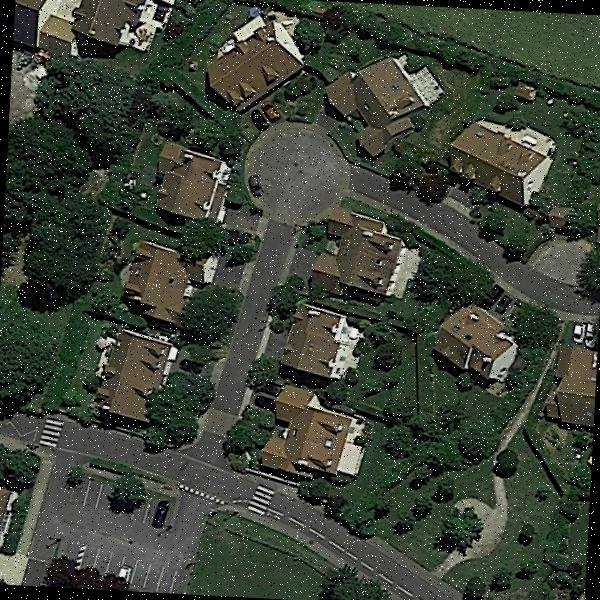Buildings: (336, 56, 434, 144), (266, 386, 355, 480), (204, 26, 296, 108), (454, 124, 547, 199), (150, 134, 226, 222), (322, 213, 402, 293), (126, 245, 198, 317), (100, 338, 164, 410), (439, 318, 512, 376), (292, 310, 354, 373), (548, 348, 597, 420), (13, 0, 67, 48), (80, 0, 132, 45), (0, 480, 19, 547)
